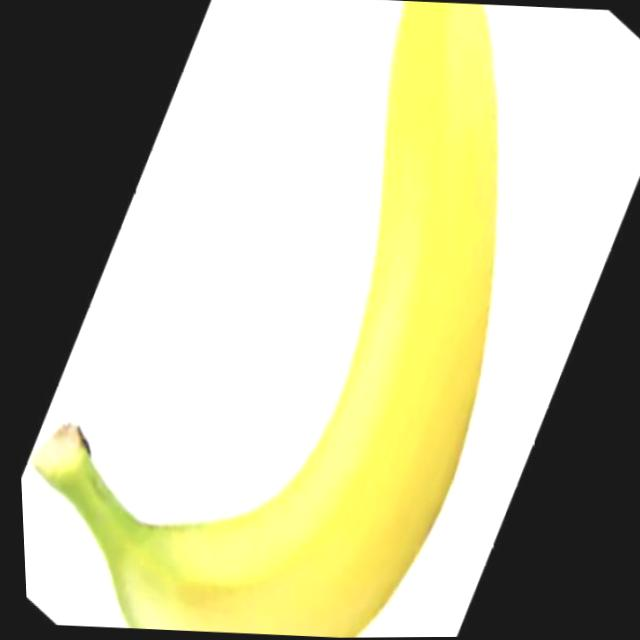Banana: (0, 0, 521, 640)
